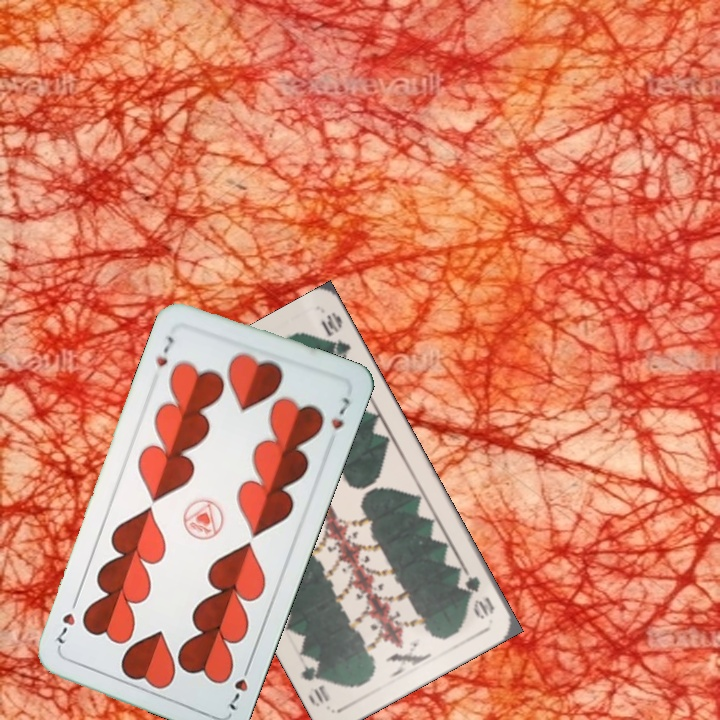G10: (459, 565, 498, 622)
H7: (222, 658, 254, 714), (151, 332, 177, 370)
